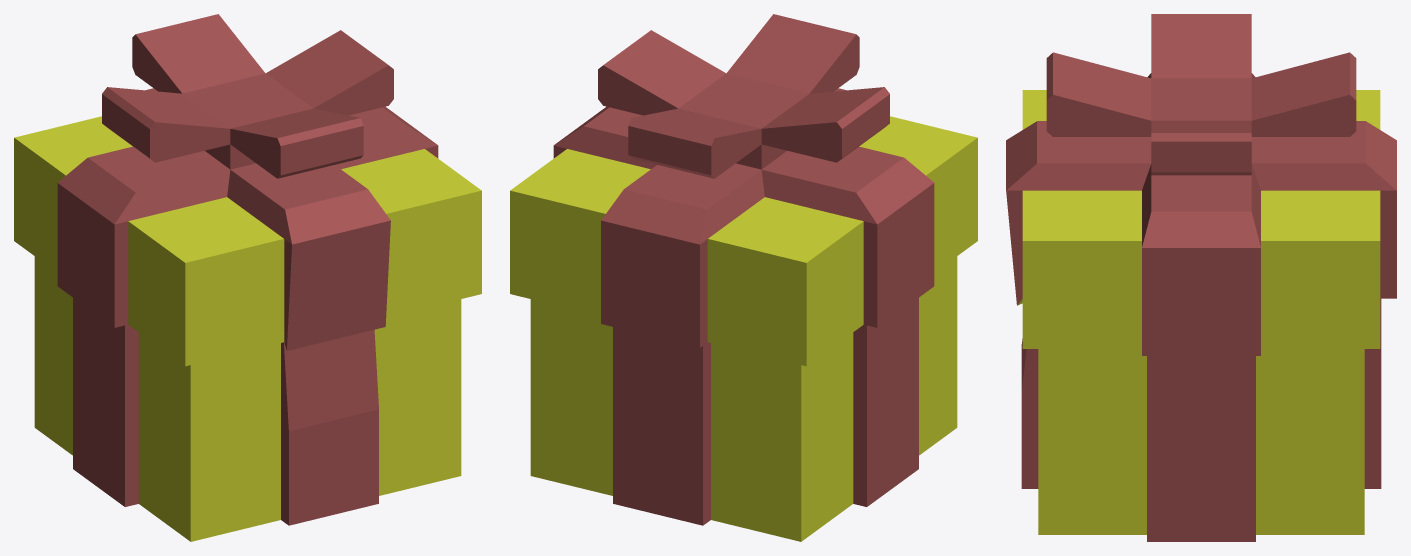
The model's file is powerup.fbx.
The picture shows the model from 3 angles, left to right: view 1: azimuth 30°, elevation 25°; view 2: azimuth 150°, elevation 25°; view 3: azimuth 270°, elevation 25°; orthographic projection. The views are drawn at different scales.
Visible parts, largest first — view 1: pCube15; view 2: pCube15; view 3: pCube15.
Boxes of the visible parts, x1,y1,x2,y2 form: pCube15: [14, 14, 481, 541]; pCube15: [510, 14, 977, 541]; pCube15: [1006, 14, 1396, 541].
Size of the model in its own units: 5.48 by 6.08 by 5.48.
